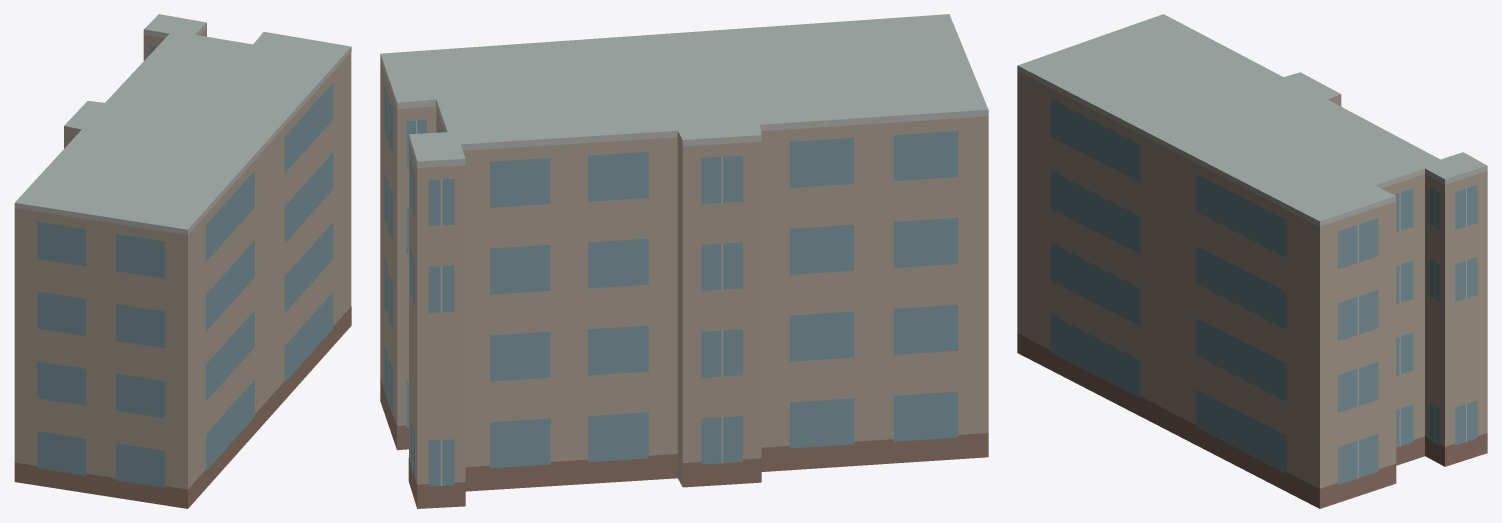
The model's file is survey-upis-32740703.glb.
3 views of the same model, side by side, from view 1: azimuth 30°, elevation 25°; view 2: azimuth 150°, elevation 25°; view 3: azimuth 270°, elevation 25° (orthographic). The views are drawn at different scales.
Visible parts, largest first — view 1: survey-upis-32740703.tmp; view 2: survey-upis-32740703.tmp; view 3: survey-upis-32740703.tmp.
Boxes of the visible parts, bbox=[...] form: survey-upis-32740703.tmp: bbox=[14, 14, 351, 508]; survey-upis-32740703.tmp: bbox=[380, 14, 988, 508]; survey-upis-32740703.tmp: bbox=[1017, 14, 1487, 508].
Size of the model in its own units: 19.81 by 12.8 by 18.98.
